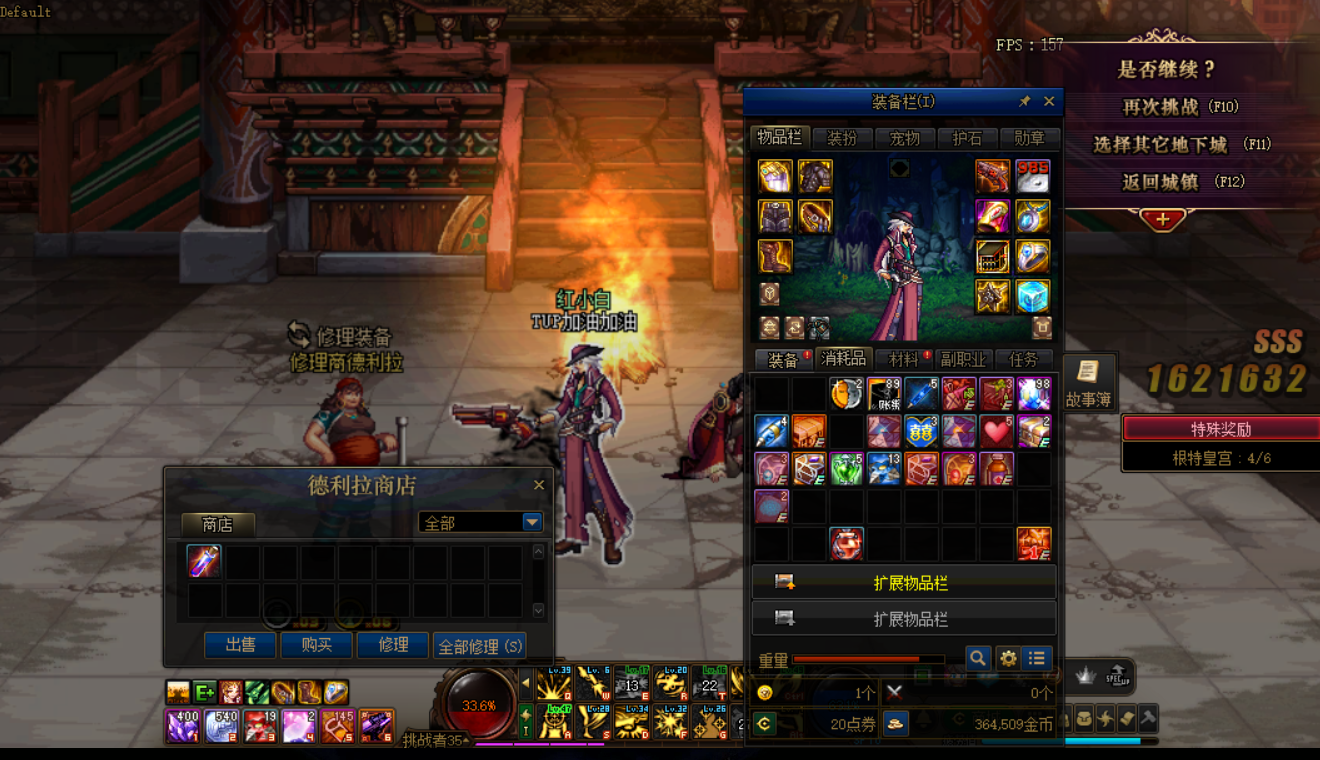warrior: (451, 331, 644, 576)
